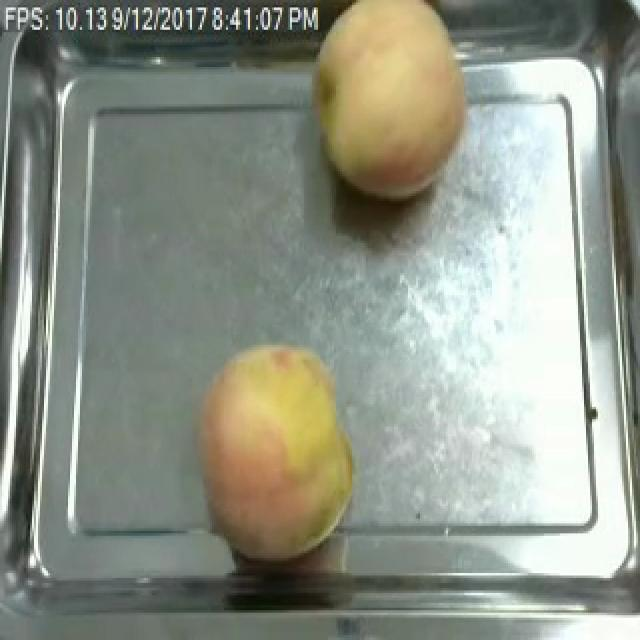Fruit: (188, 335, 362, 565), (300, 0, 480, 211)
